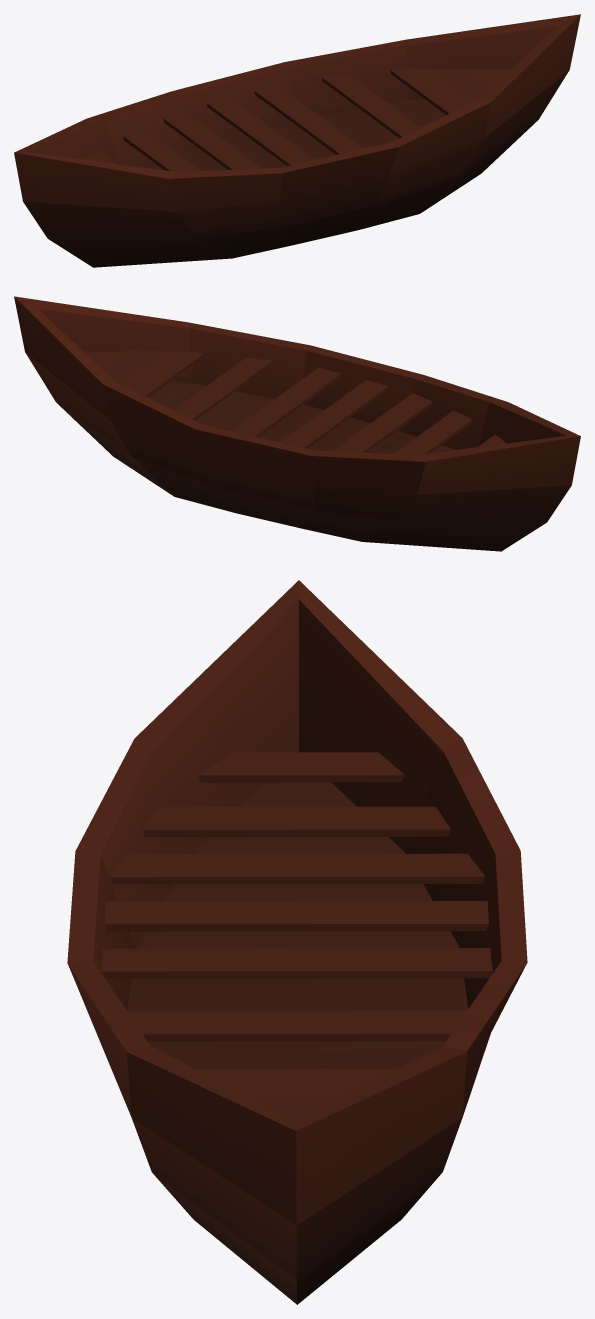
Rendered from FBX_Boat.fbx.
3 views of the same model, one above another, from view 1: azimuth 30°, elevation 25°; view 2: azimuth 150°, elevation 25°; view 3: azimuth 270°, elevation 25° (orthographic). The views are drawn at different scales.
Parts seen in each view (by area): view 1: M_Boat; view 2: M_Boat; view 3: M_Boat.
Boxes of the visible parts, left/top/right/bottom form: M_Boat: left=14, top=14, right=580, bottom=267; M_Boat: left=14, top=296, right=580, bottom=551; M_Boat: left=67, top=580, right=527, bottom=1304.
Bounding box in the file's own units: 4.11 × 0.9389 × 1.45.
